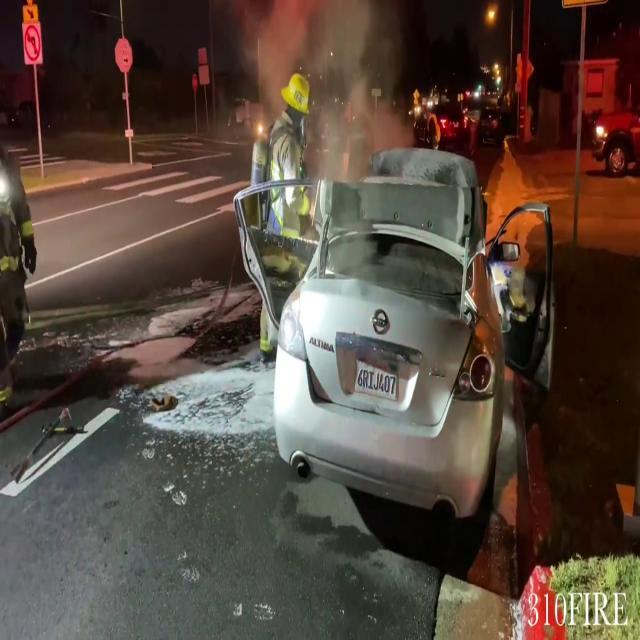Smoke: (231, 0, 401, 173)
